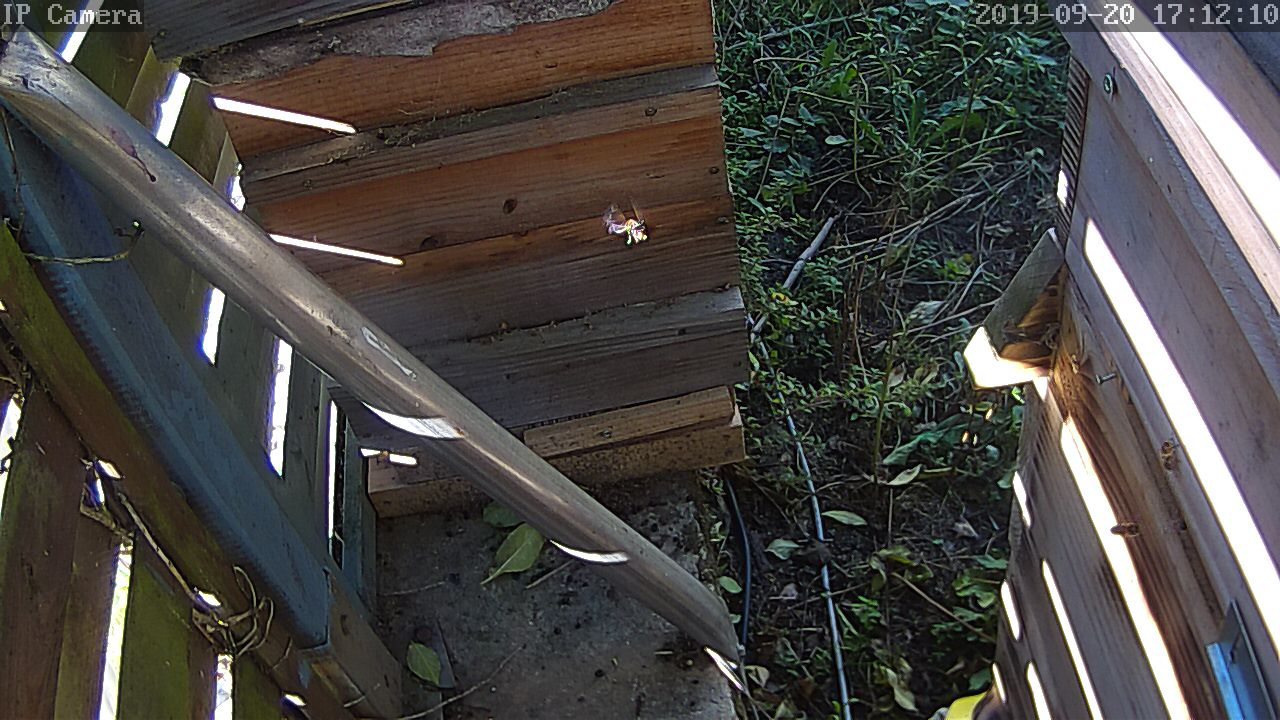bee: (1107, 516, 1148, 539), (1152, 438, 1181, 470)
hornet: (603, 206, 652, 252)
